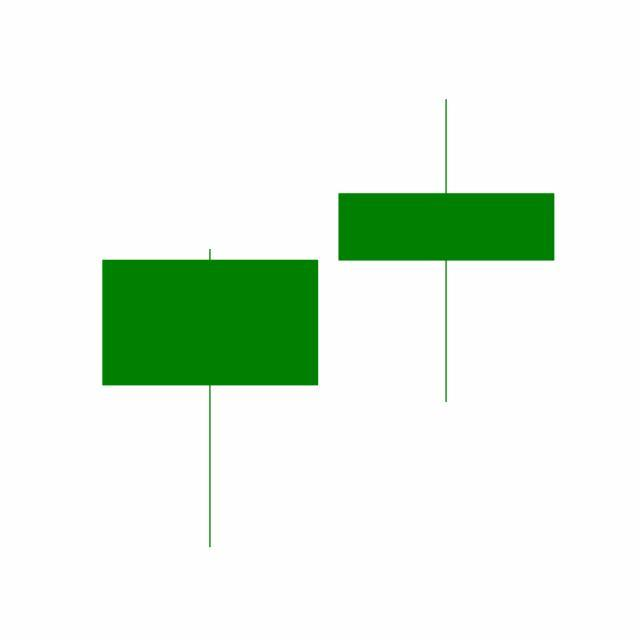Spinning Top: (328, 96, 566, 406)
